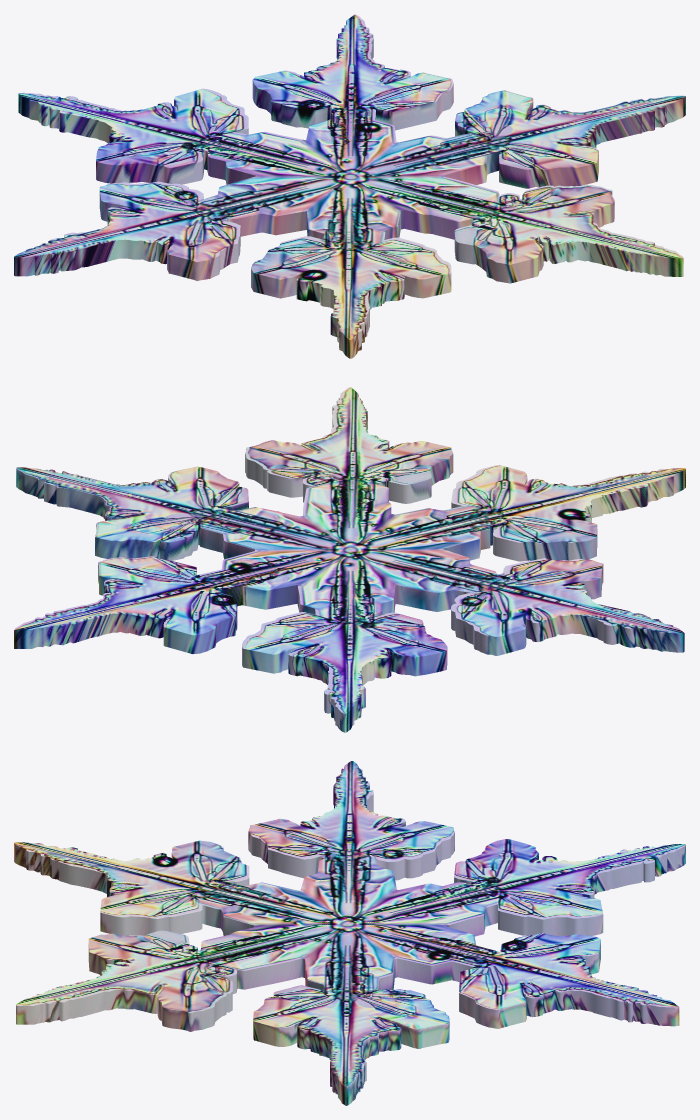
File: snowflake4.obj
3 views of the same model, one above another, from view 1: azimuth 30°, elevation 25°; view 2: azimuth 150°, elevation 25°; view 3: azimuth 270°, elevation 25° (orthographic).
Parts seen in each view (by area): view 1: Snowflake4_CUBezierCurve.005; view 2: Snowflake4_CUBezierCurve.005; view 3: Snowflake4_CUBezierCurve.005.
Boxes of the visible parts, x1=… form: Snowflake4_CUBezierCurve.005: x1=14, y1=14, x2=685, y2=358; Snowflake4_CUBezierCurve.005: x1=14, y1=387, x2=685, y2=732; Snowflake4_CUBezierCurve.005: x1=14, y1=761, x2=685, y2=1105.
Bounding box in the file's own units: 9.08 × 0.244 × 7.91.
